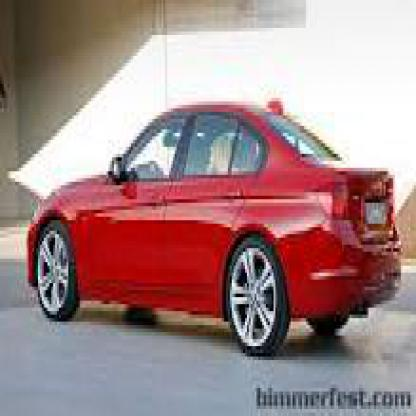Vehicle: (26, 101, 404, 367)
